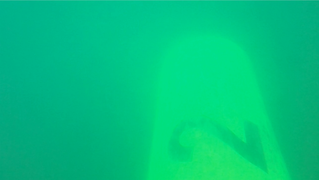2: (168, 117, 269, 173)
pipe: (147, 35, 291, 179)
